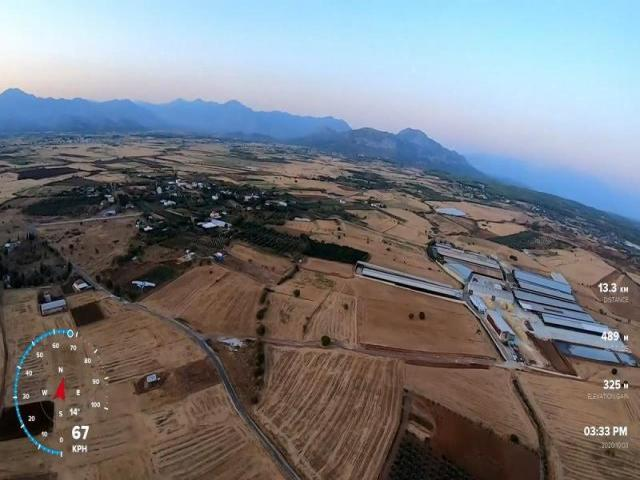hedef: (128, 278, 159, 294)
